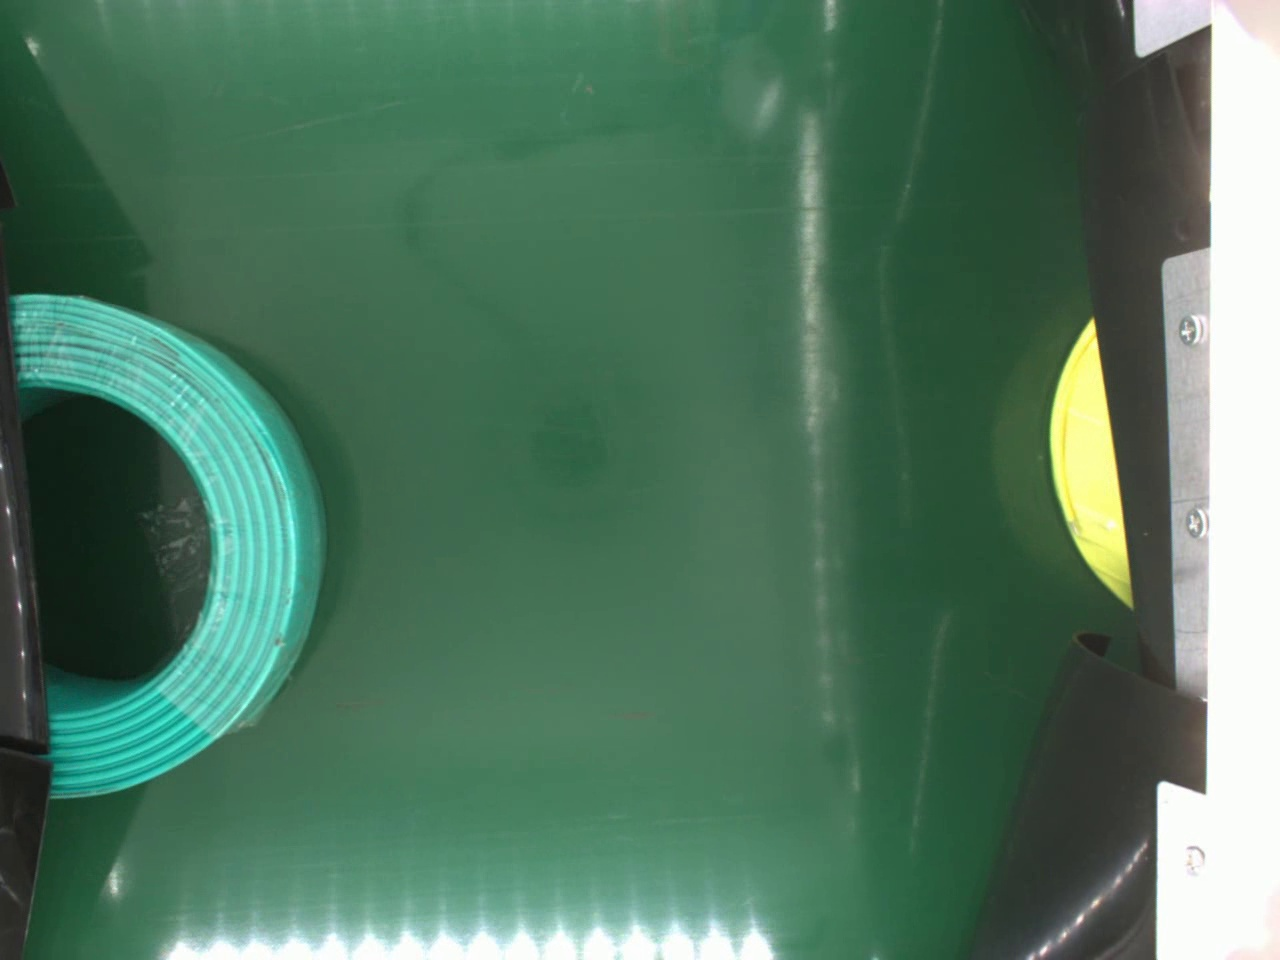green: (8, 281, 335, 804)
